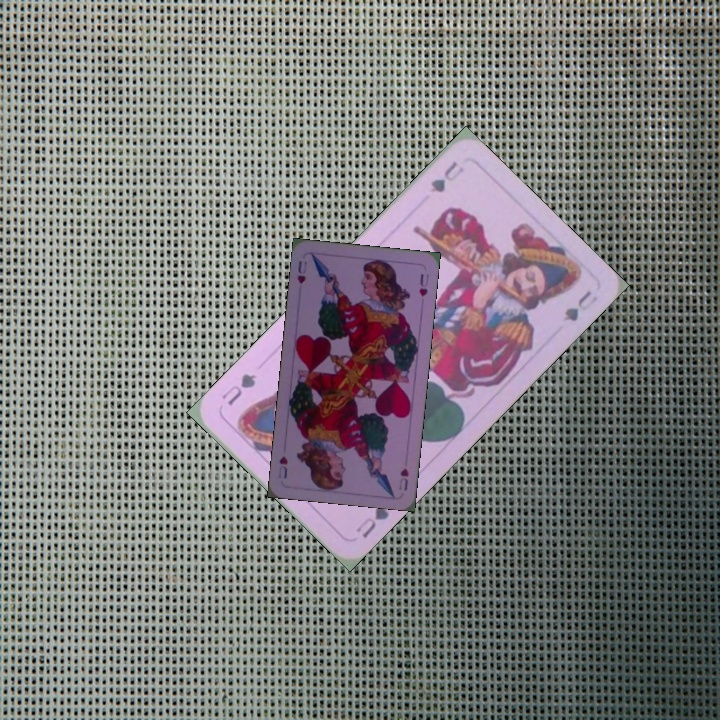GU: (352, 501, 392, 541), (426, 157, 467, 196)
HU: (293, 257, 310, 286), (395, 464, 411, 493)
